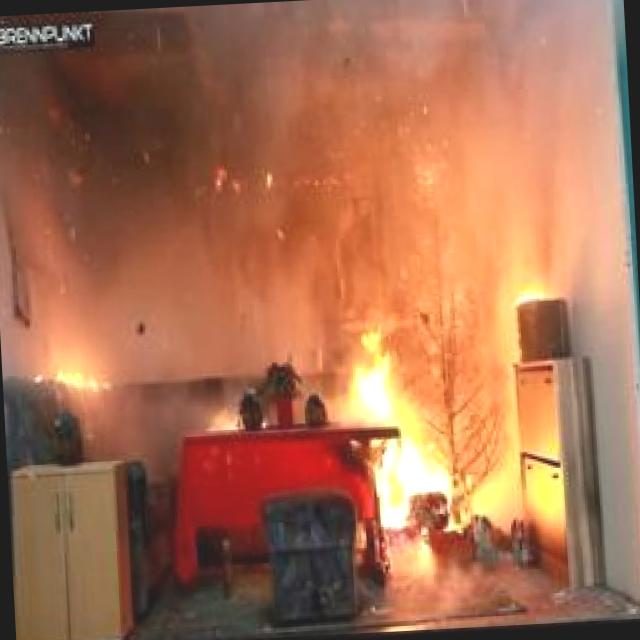fire: (314, 317, 469, 536)
